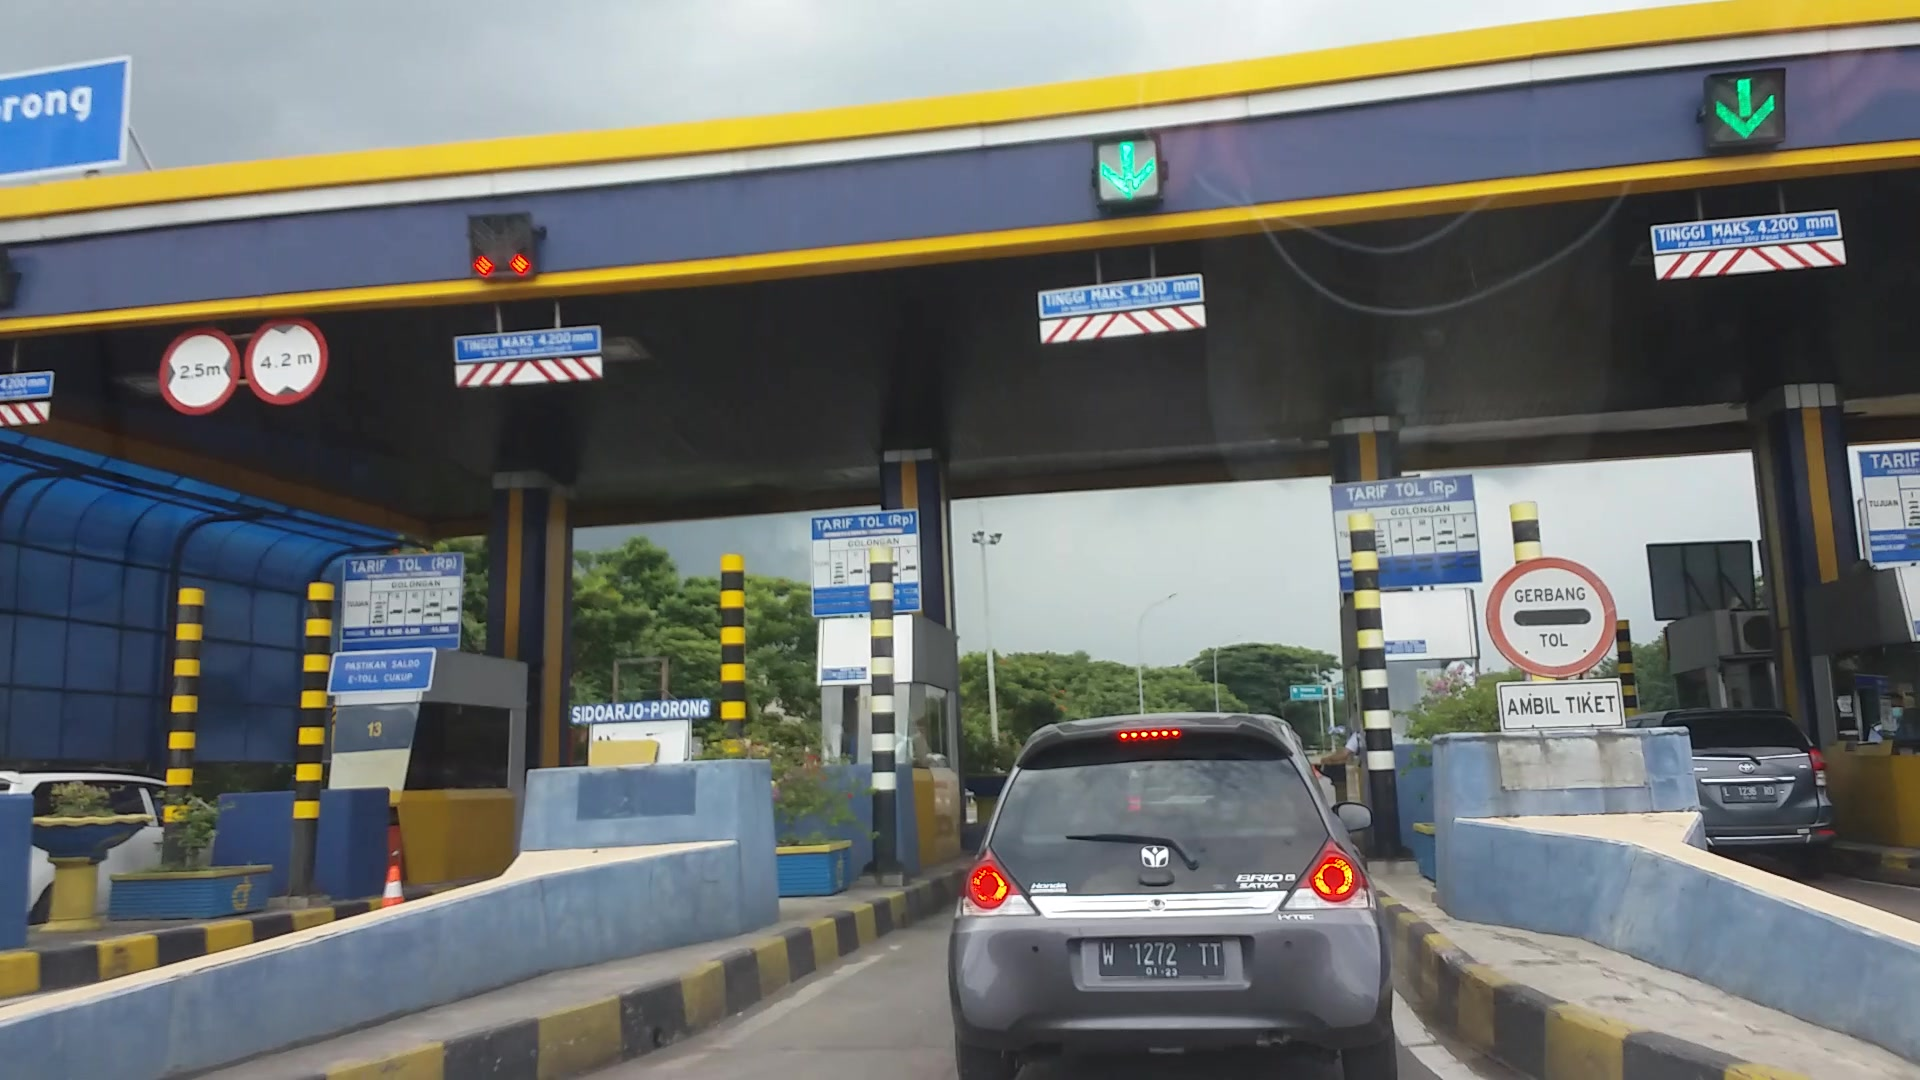plate_positive: (1098, 938, 1225, 978)
